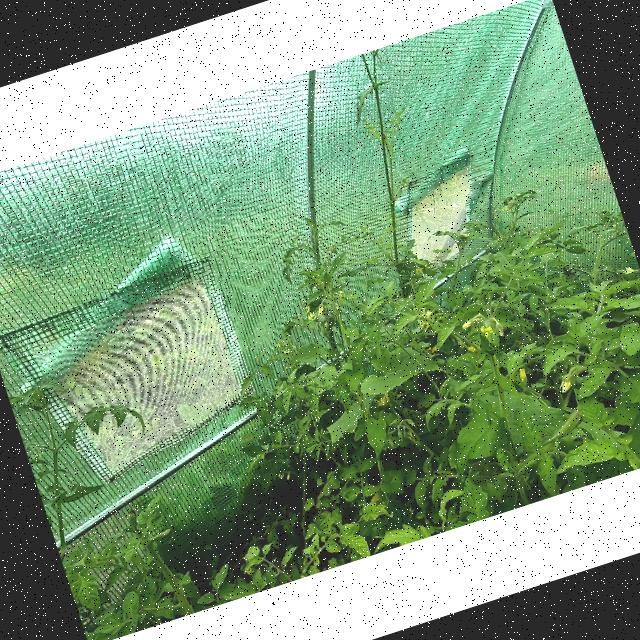Flowers: (414, 308, 434, 330), (557, 378, 574, 395), (303, 304, 316, 324), (481, 324, 495, 339), (502, 200, 518, 213)
